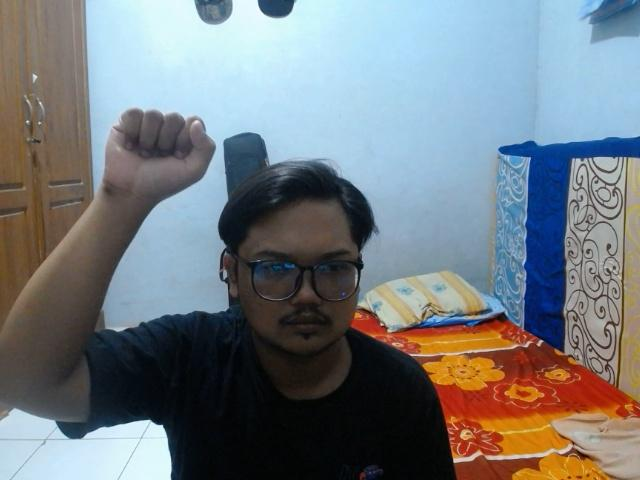Grab: (101, 99, 218, 206)
